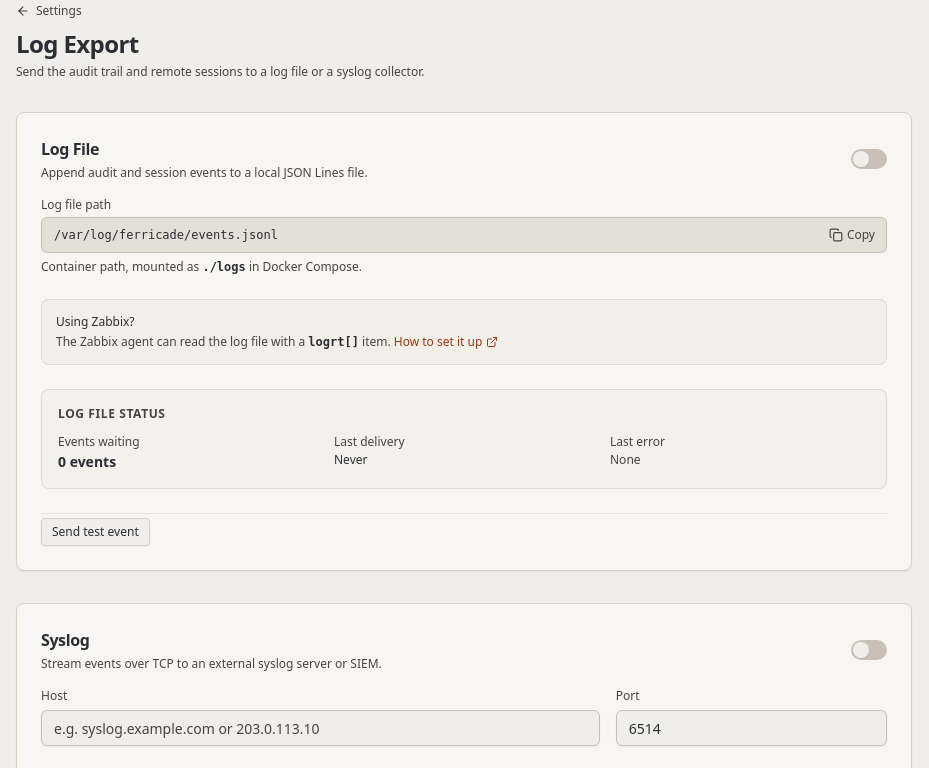
Test: LogExportView › disables test button while form has unsaved edits, and shows hint to save first
Expected: the text "Log File" is shown, [41,138,99,160]
Expected: the button "Send test event" is enabled, [41,518,150,546]
Make a change
Click the switch named "Enable log file export" at (869, 159), box [851,149,887,169]
(page scrolled)
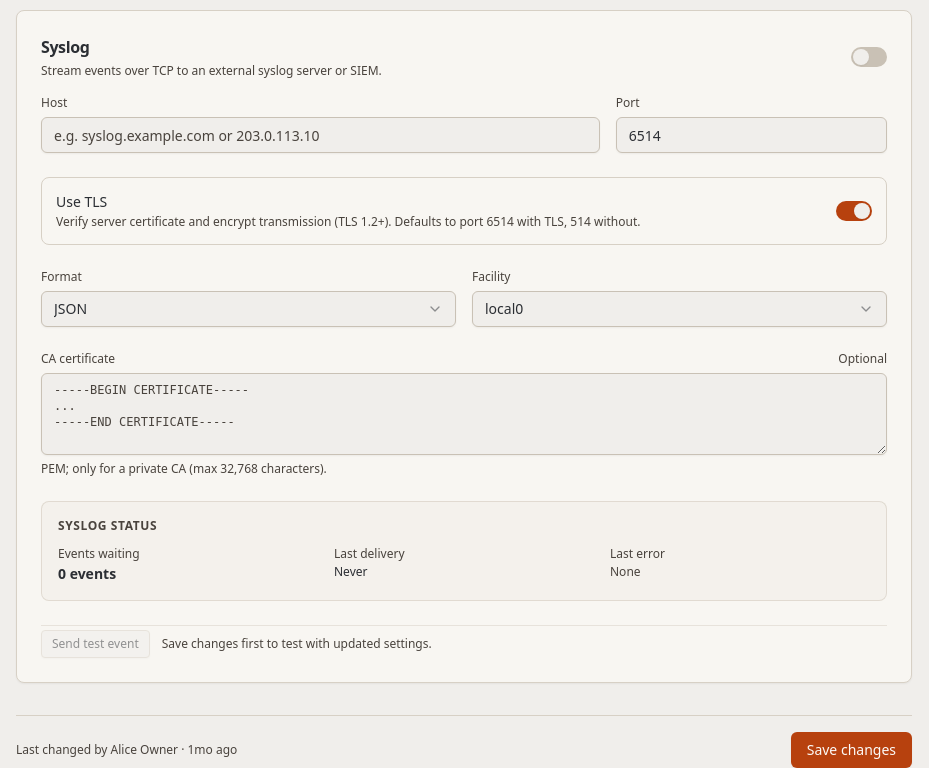
Now the button "Send test event" is disabled, box [41,630,150,658]
Now the text "Save changes first to test with updated settings." is shown 2 times
